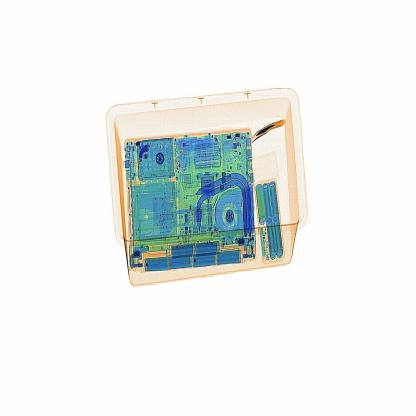wrench: (245, 117, 288, 141)
